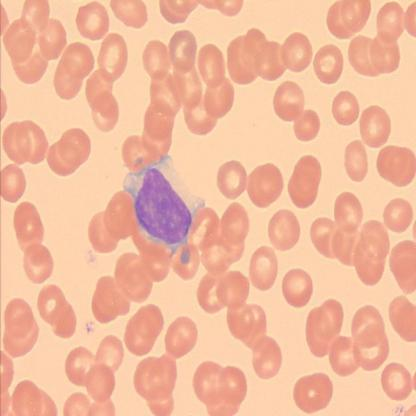Lymphocyte: (122, 154, 206, 266)
